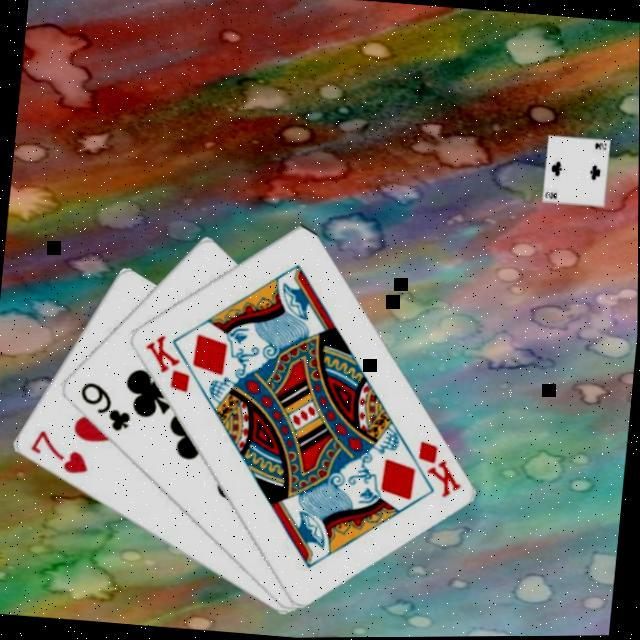7H: (25, 424, 95, 477)
9C: (74, 376, 136, 435)
KD: (139, 328, 197, 394), (412, 436, 469, 502)
